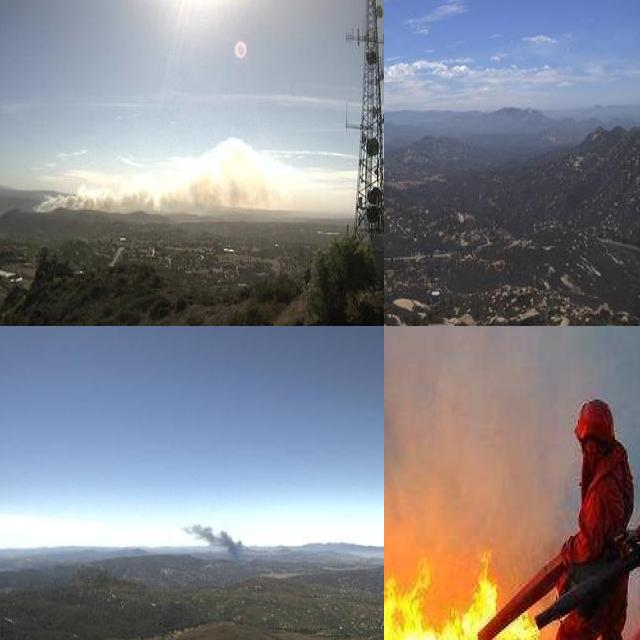fire: (384, 557, 539, 640)
smoke: (384, 326, 593, 585), (33, 135, 285, 218), (178, 512, 249, 564)
